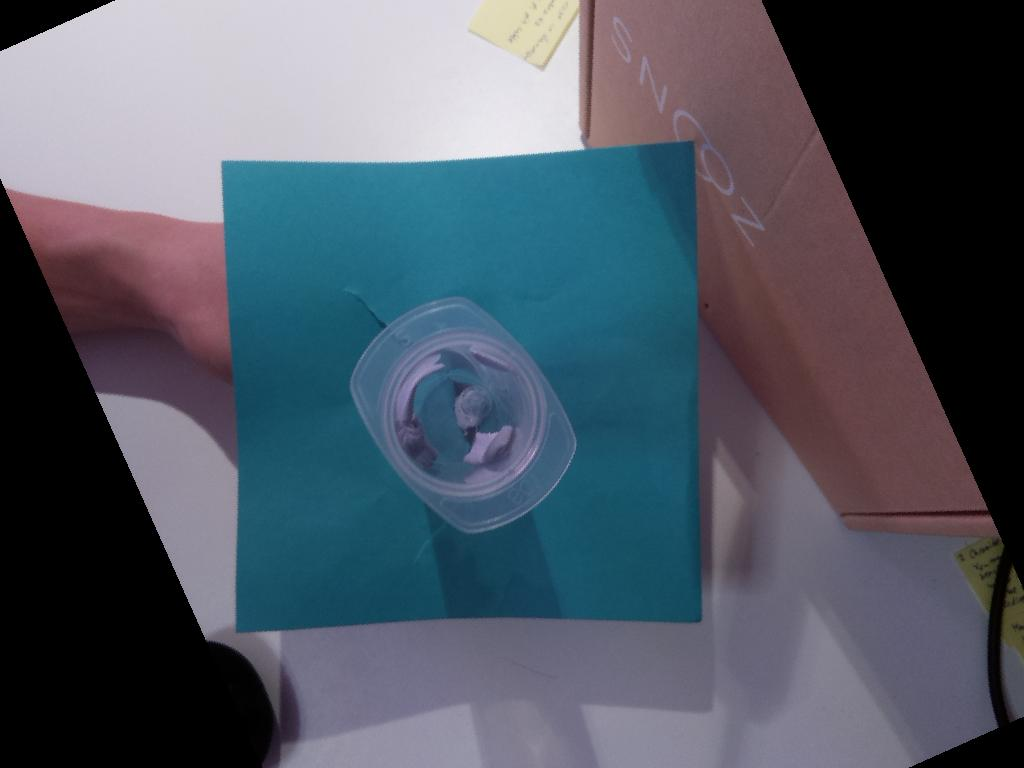dirty: (349, 295, 577, 534)
